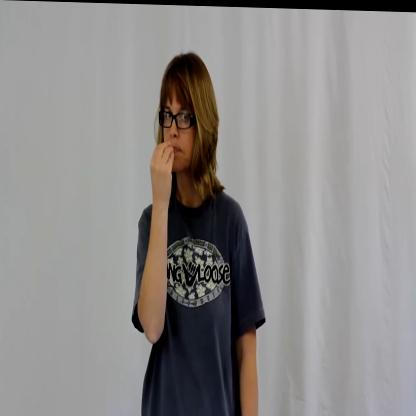Food: (148, 41, 228, 206)
